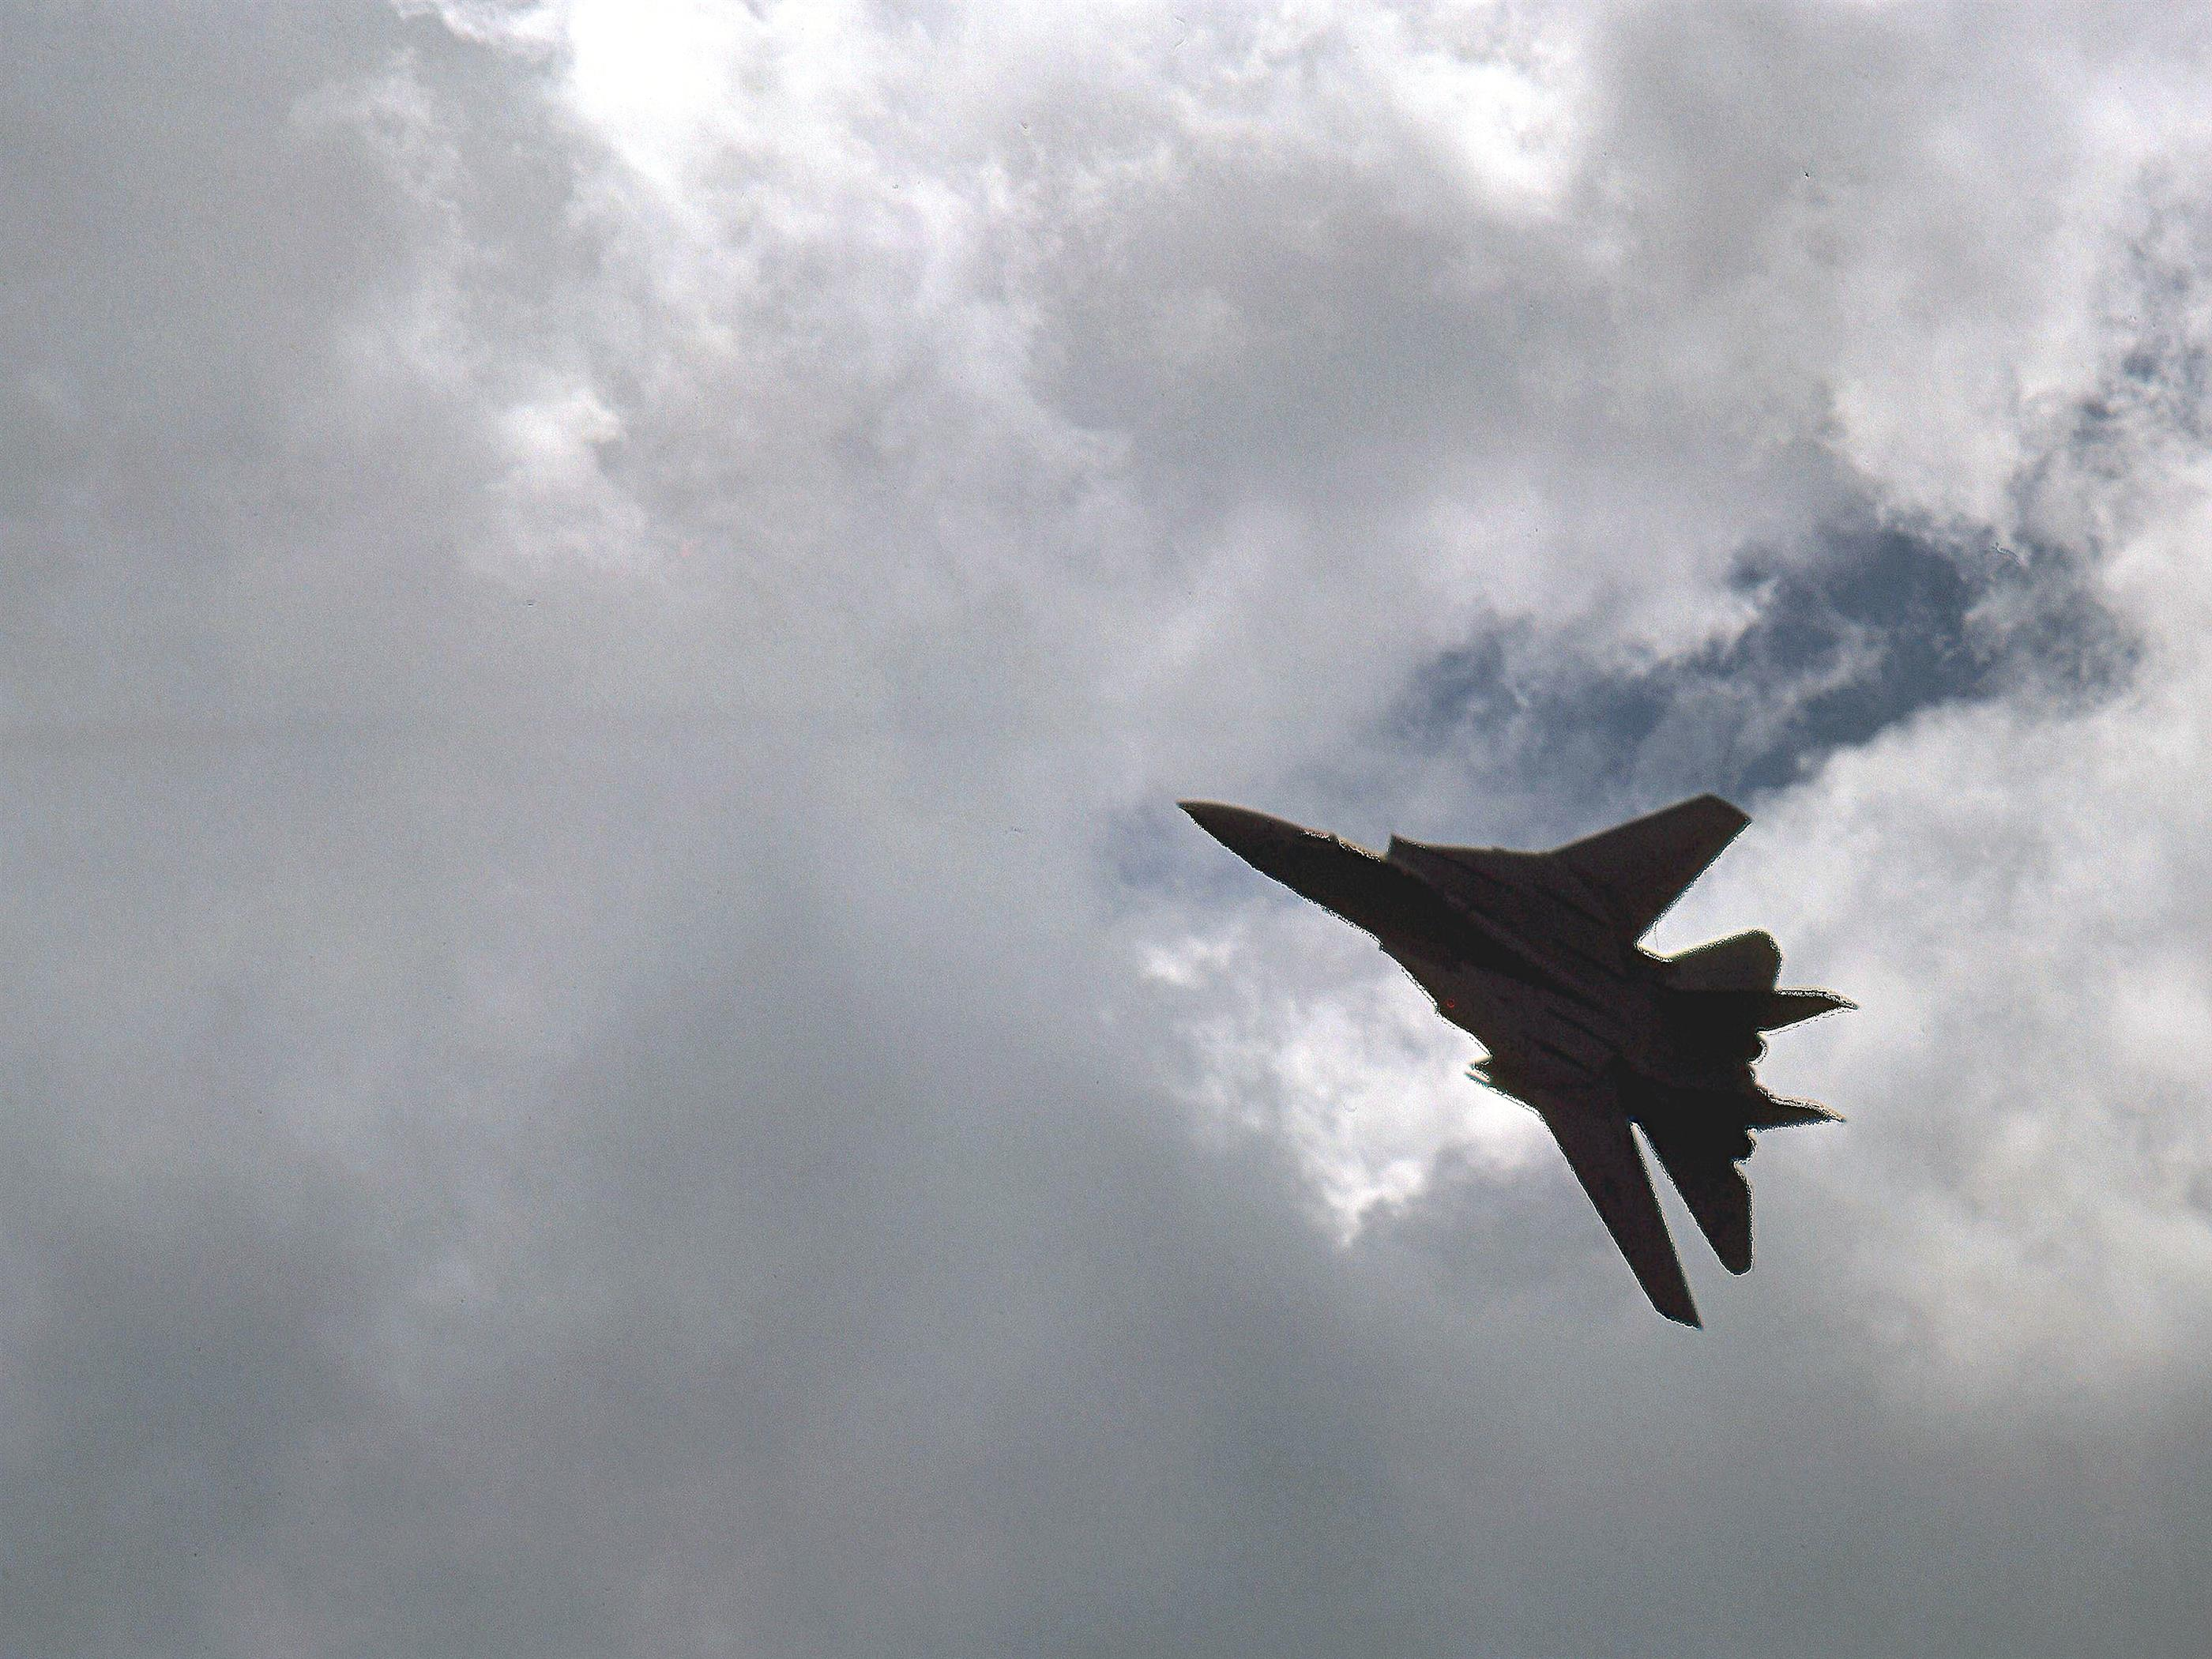F14: (1174, 793, 1858, 1331)
